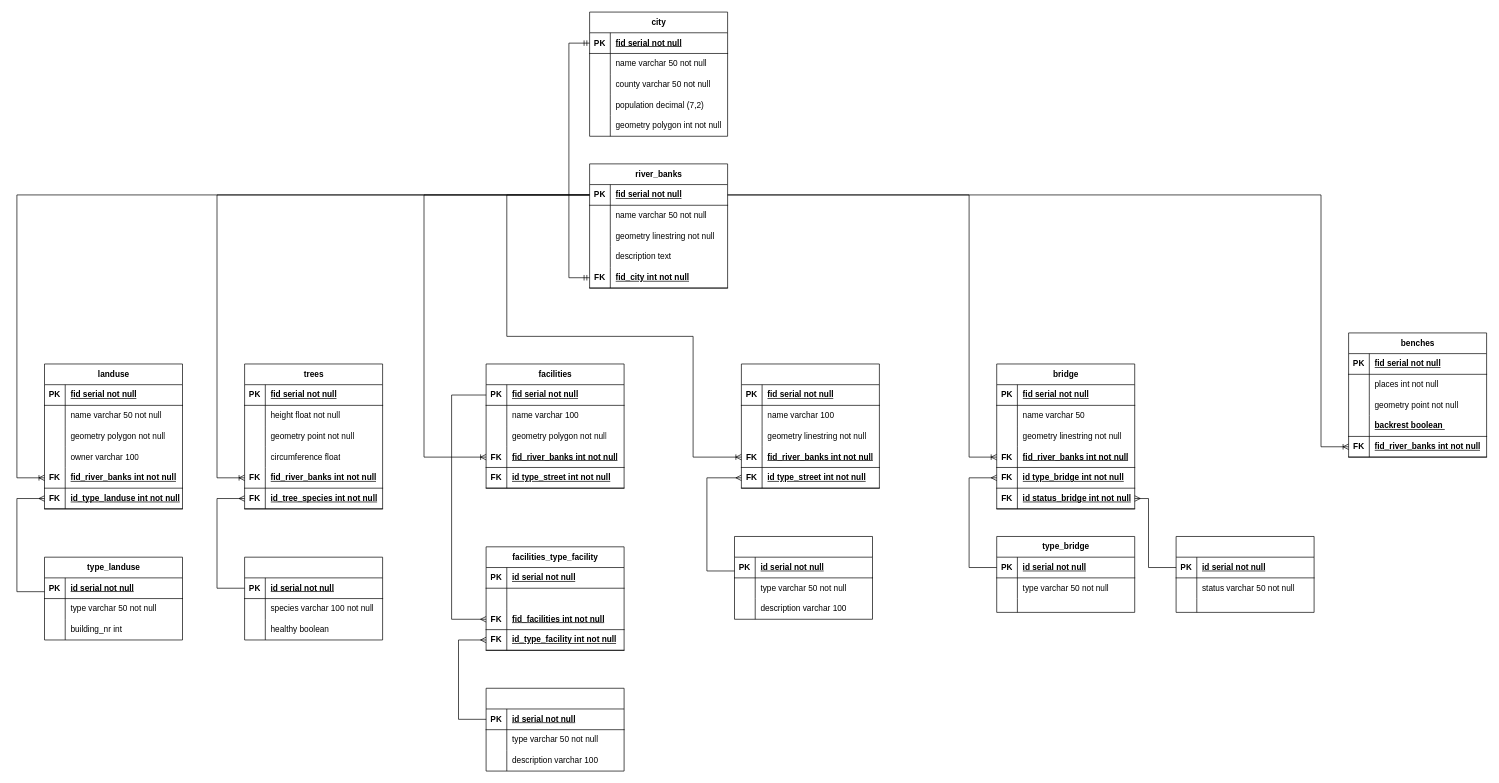
Some shapes in this 1499 by 783 pixel diagram are drawn without their labels. Here are the shapes that lost their labels. From the top down, the box of each, then its label:
(741, 363, 879, 488): street_network
(734, 536, 873, 619): type_street
(1175, 536, 1314, 612): status_bridge
(244, 556, 383, 640): tree_species
(485, 688, 624, 771): type_facility
